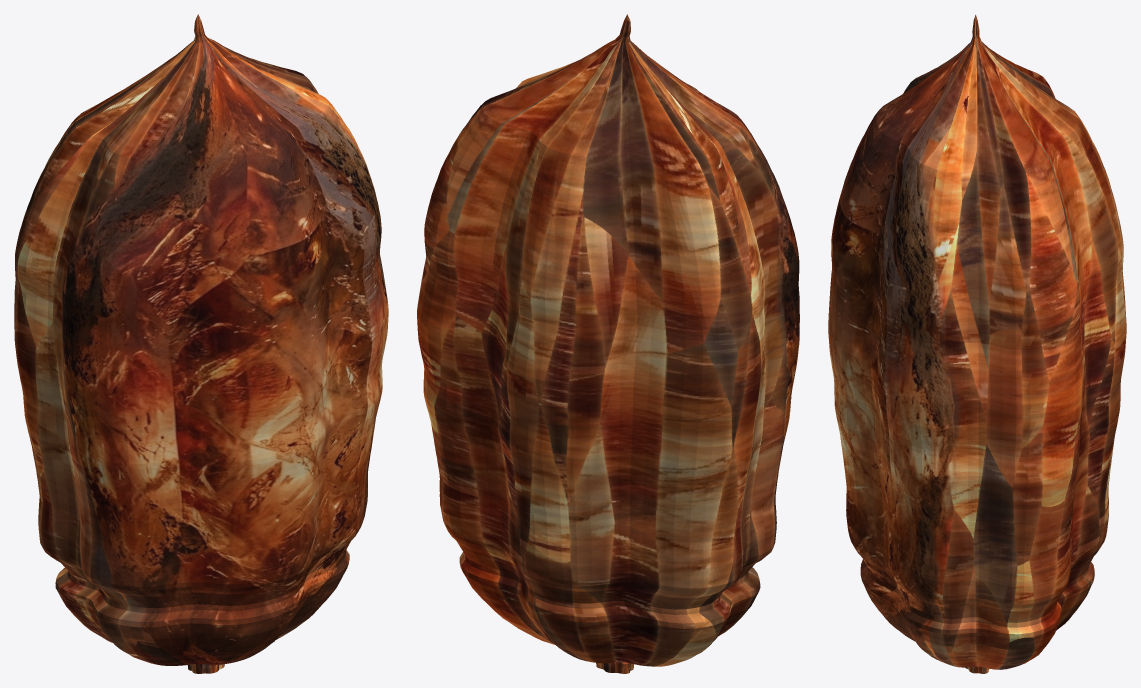
The model's file is idlex-amber-crystal-repaired.glb.
3 renders of one model, left to right at view 1: azimuth 30°, elevation 25°; view 2: azimuth 150°, elevation 25°; view 3: azimuth 270°, elevation 25°, orthographic.
Parts seen in each view (by area): view 1: geometry_0; view 2: geometry_0; view 3: geometry_0.
Part boxes in pixels (x1=…): geometry_0: x1=14, y1=14, x2=388, y2=673; geometry_0: x1=417, y1=14, x2=799, y2=673; geometry_0: x1=828, y1=14, x2=1126, y2=673.
Size of the model in its own units: 2.6 by 4.94 by 2.05.
1 material, 1 textured.
